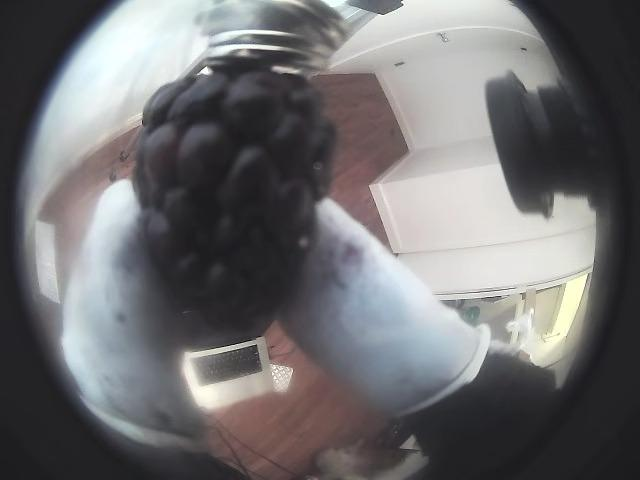berry: (133, 70, 335, 333)
gripper: (290, 205, 478, 411), (60, 180, 200, 450)
lense: (0, 0, 173, 479), (471, 0, 639, 479)
